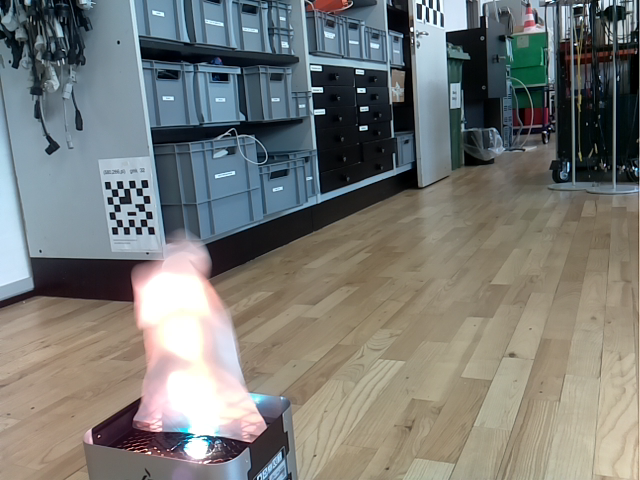fire: (130, 229, 266, 442)
